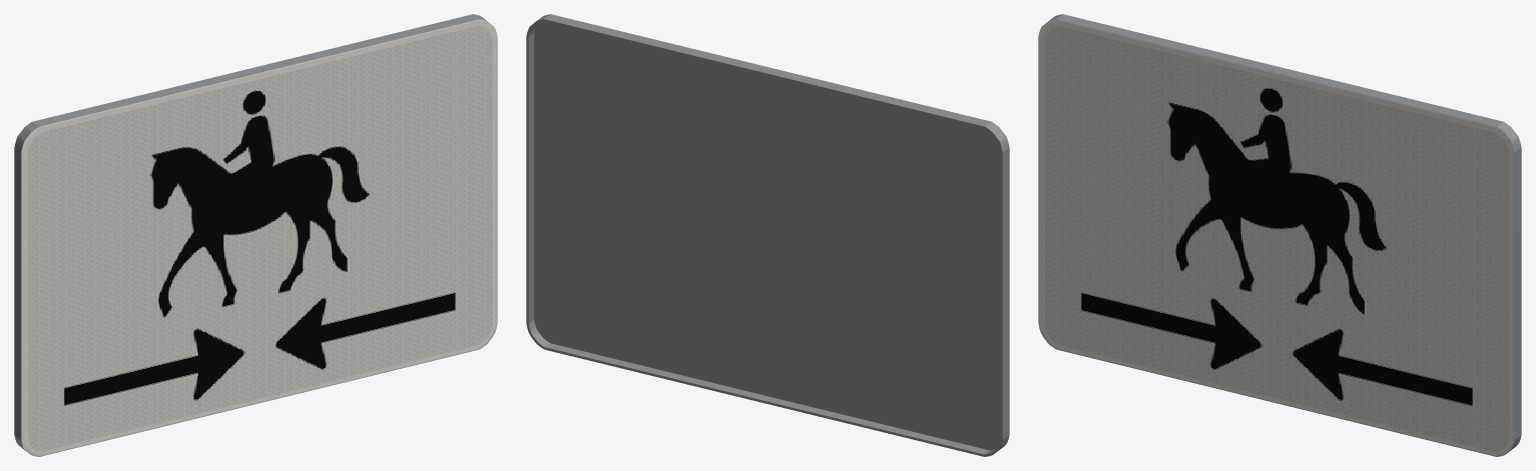
3 renders of one model, left to right at view 1: azimuth 30°, elevation 25°; view 2: azimuth 150°, elevation 25°; view 3: azimuth 330°, elevation 25°, orthographic.
Visible parts, largest first — view 1: cat_2bc9b53f58532fef; view 2: cat_2bc9b53f58532fef; view 3: cat_2bc9b53f58532fef.
Part boxes in pixels (box(x1,y1,x2,y2)): cat_2bc9b53f58532fef: box(14, 14, 497, 456); cat_2bc9b53f58532fef: box(526, 14, 1009, 456); cat_2bc9b53f58532fef: box(1038, 14, 1521, 456).
Bounding box in the file's own units: 0.6 × 0.015 × 0.3976.
2 materials, 1 textured.
